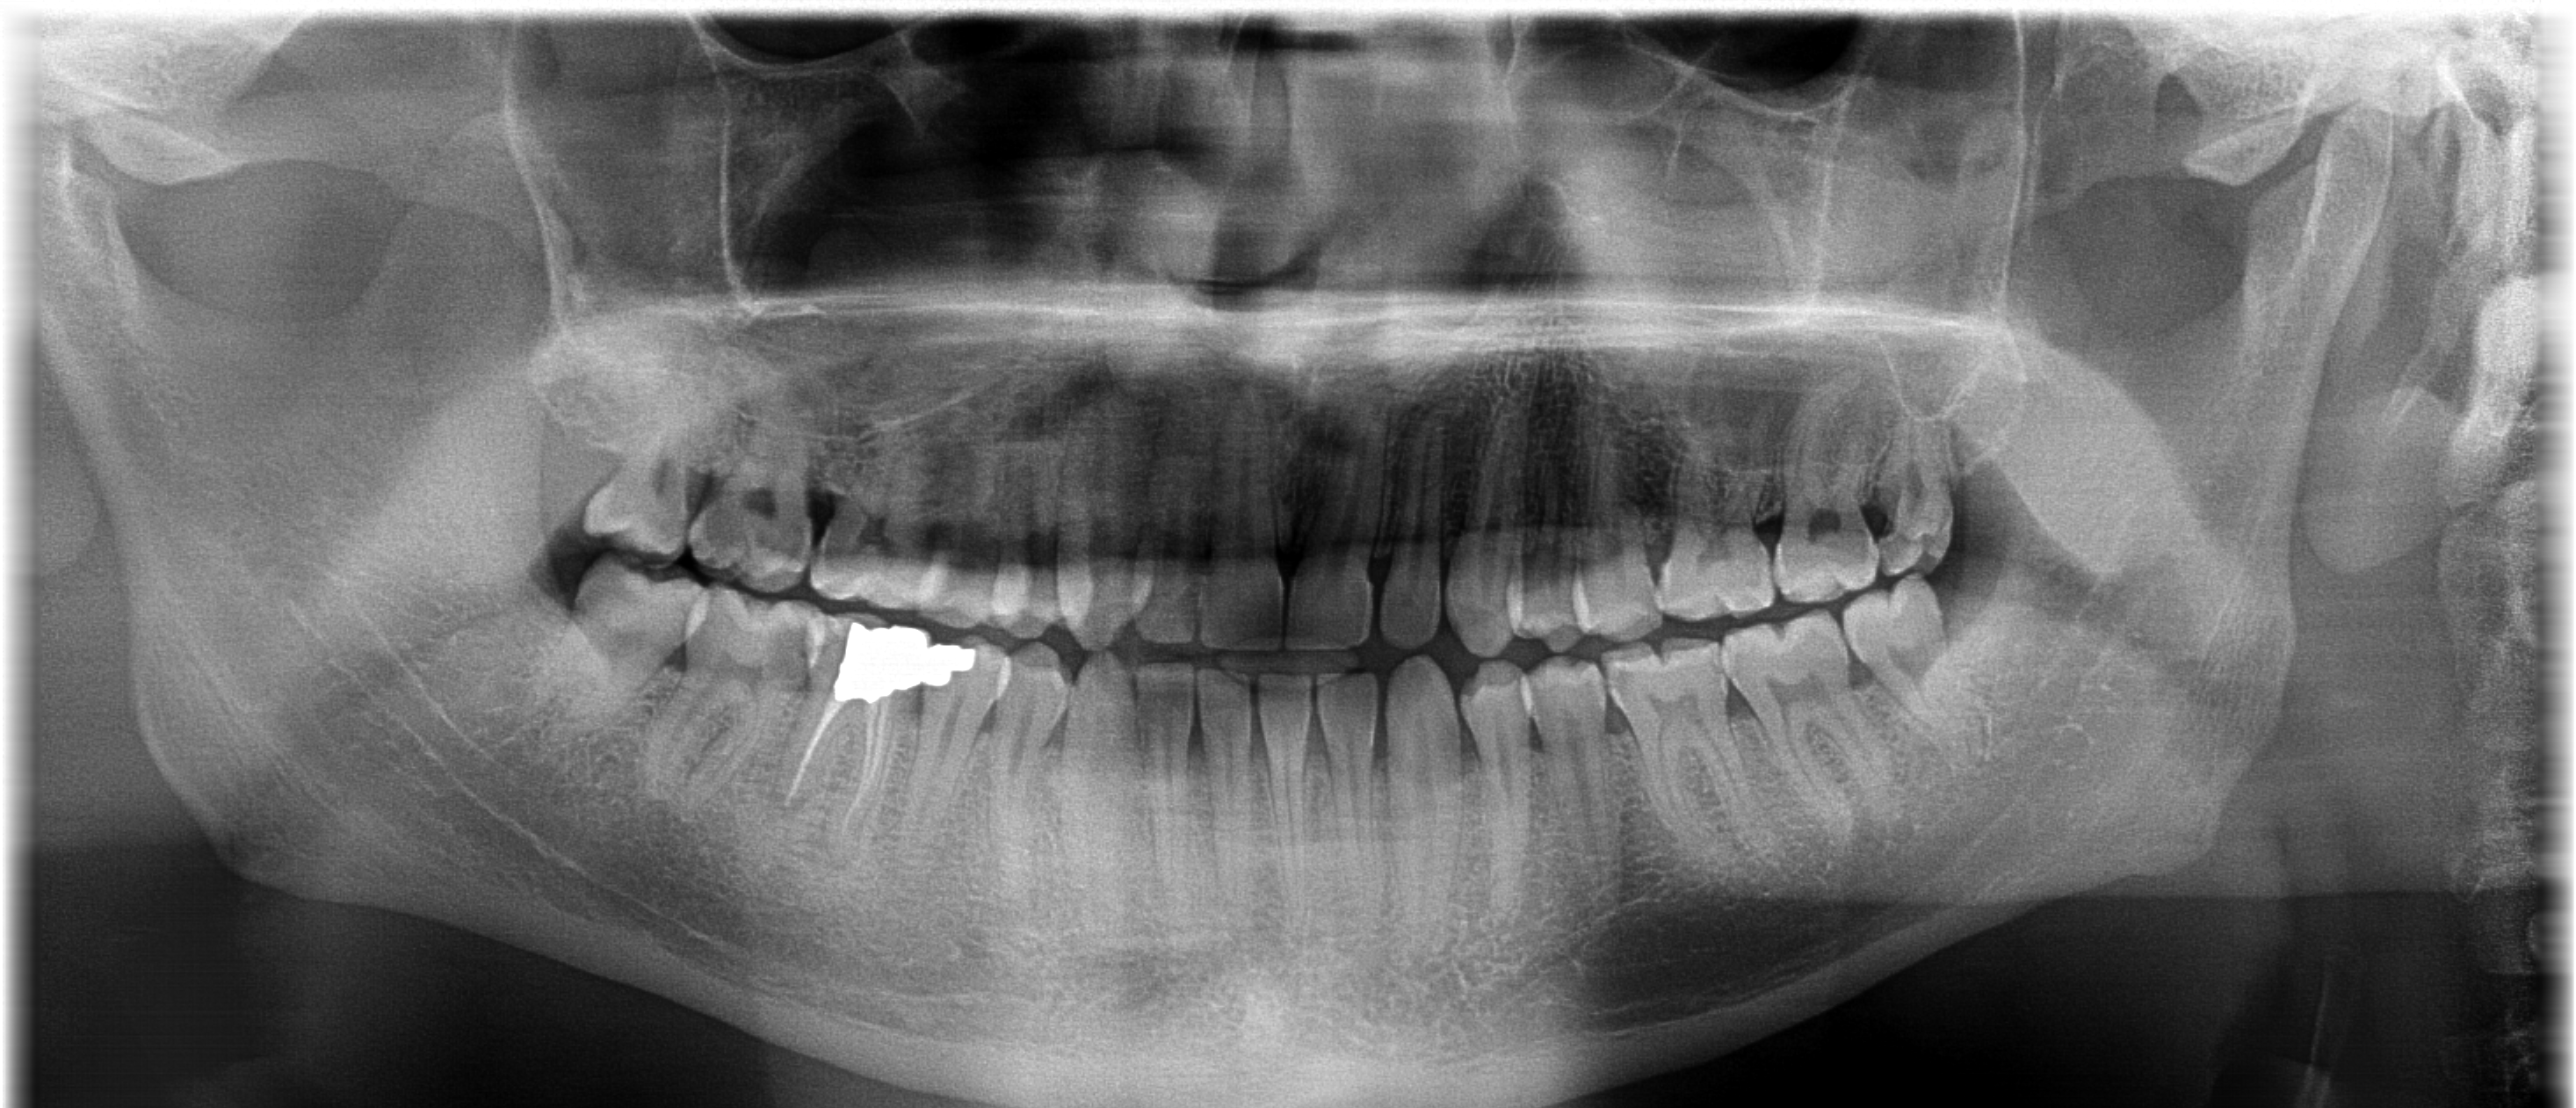cordal: (1827, 395, 2029, 587), (1807, 575, 2009, 768), (527, 552, 728, 745), (559, 375, 734, 574)
diastema: (1350, 442, 1418, 666)
diente_rotado: (1367, 644, 1479, 953)
